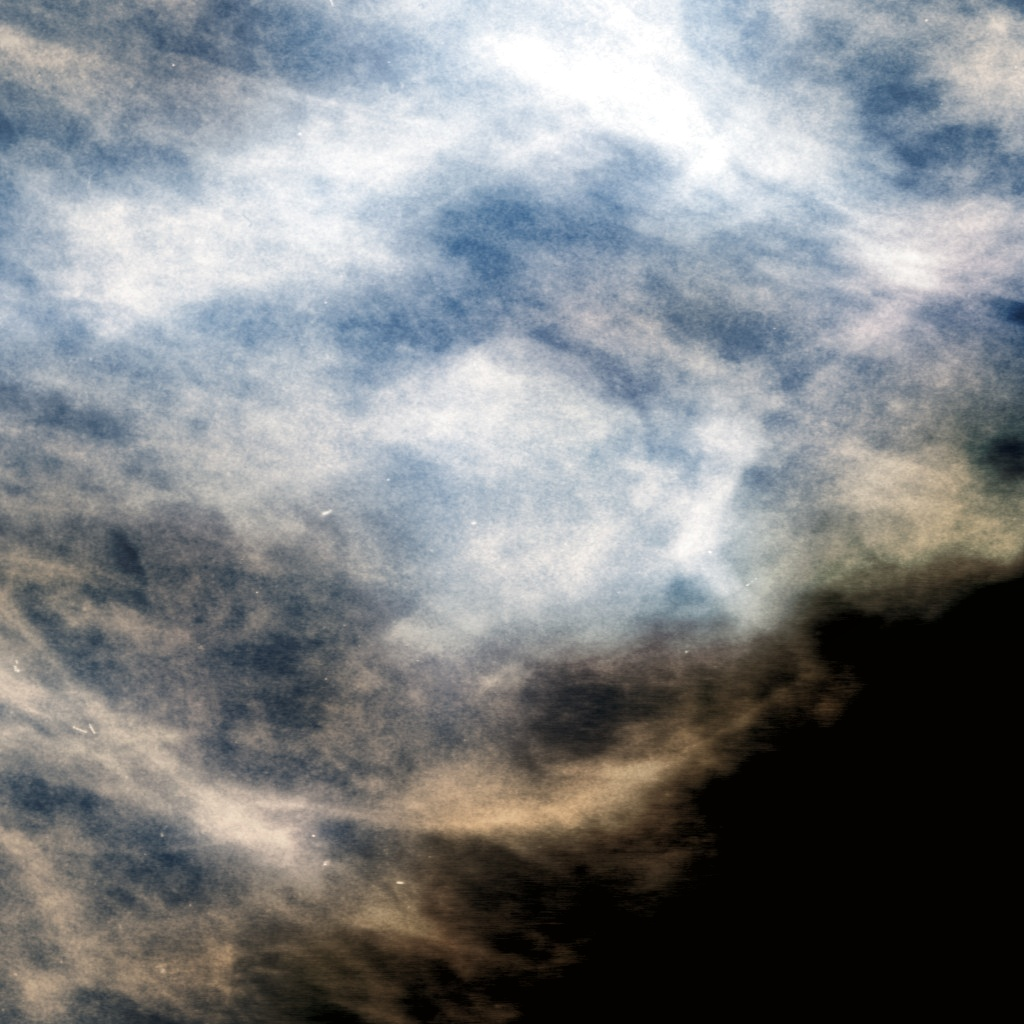tumor: (347, 317, 677, 707)
